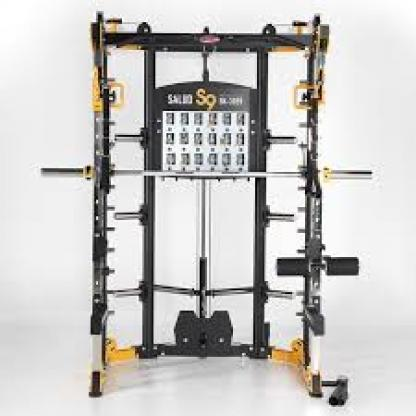smith machine: (41, 10, 374, 408)
